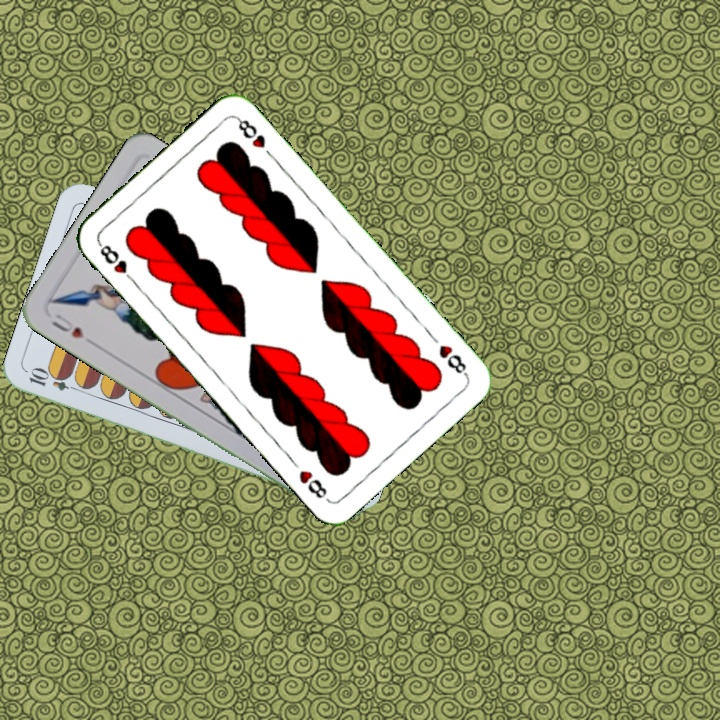E10: (25, 366, 83, 394)
H8: (94, 238, 139, 286), (435, 340, 471, 379)
HU: (48, 309, 87, 342)
